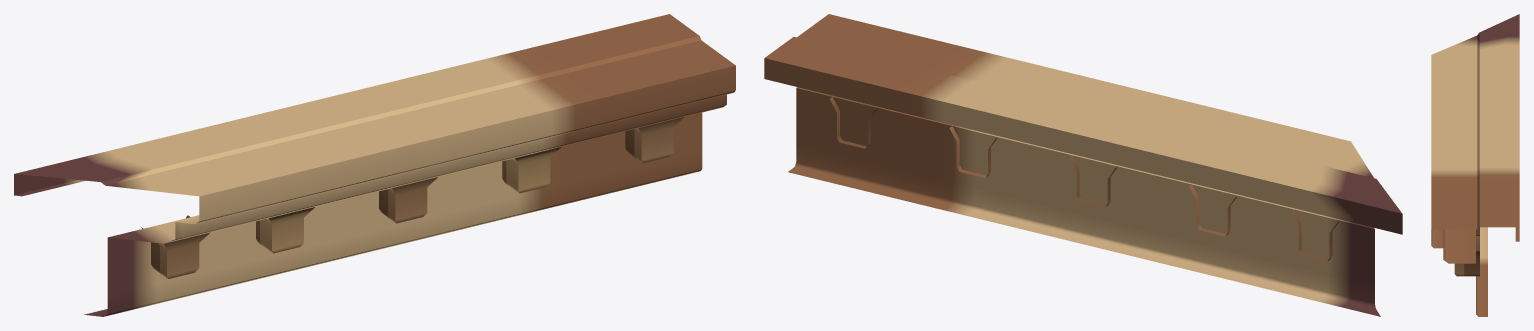
Rendered from DBK_Cornice_C_Full_Inside_Mirror.fbx.
The picture shows the model from 3 angles, left to right: view 1: azimuth 30°, elevation 25°; view 2: azimuth 150°, elevation 25°; view 3: azimuth 270°, elevation 25°; orthographic projection. The views are drawn at different scales.
Visible parts, largest first — view 1: DBK_Cornice_C_Full_Inside_Mirror; view 2: DBK_Cornice_C_Full_Inside_Mirror; view 3: DBK_Cornice_C_Full_Inside_Mirror.
Part boxes in pixels (x1,y1,x2,y2): DBK_Cornice_C_Full_Inside_Mirror: [14, 14, 735, 316]; DBK_Cornice_C_Full_Inside_Mirror: [764, 14, 1402, 316]; DBK_Cornice_C_Full_Inside_Mirror: [1431, 14, 1519, 316].
Size of the model in its own units: 323 by 63.25 by 56.36.
